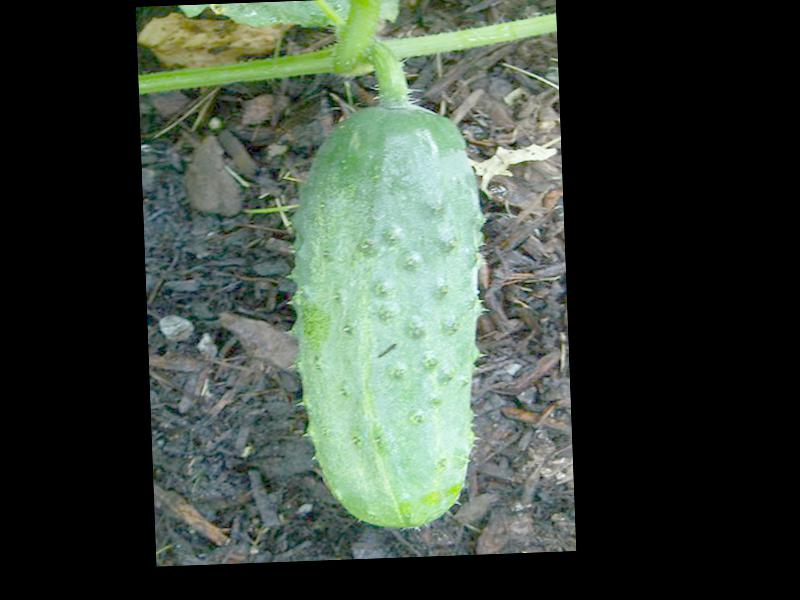Cucumber: (284, 101, 493, 534)
